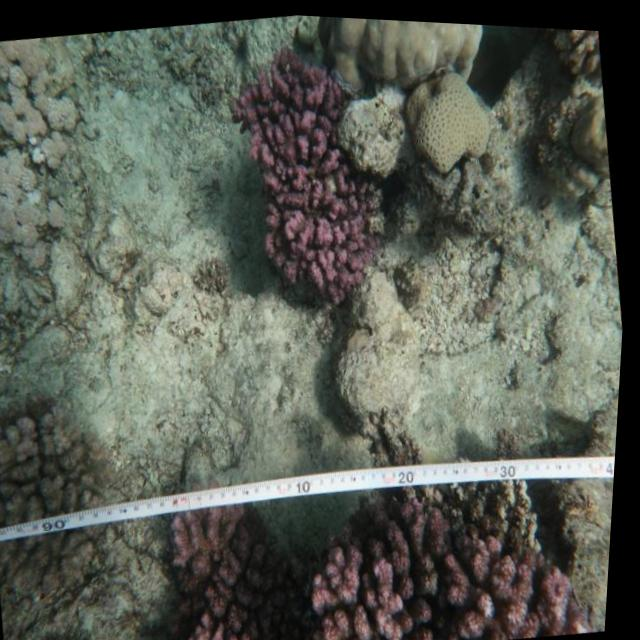Healthy Coral: (282, 444, 585, 640), (219, 52, 399, 315), (161, 499, 291, 640)
